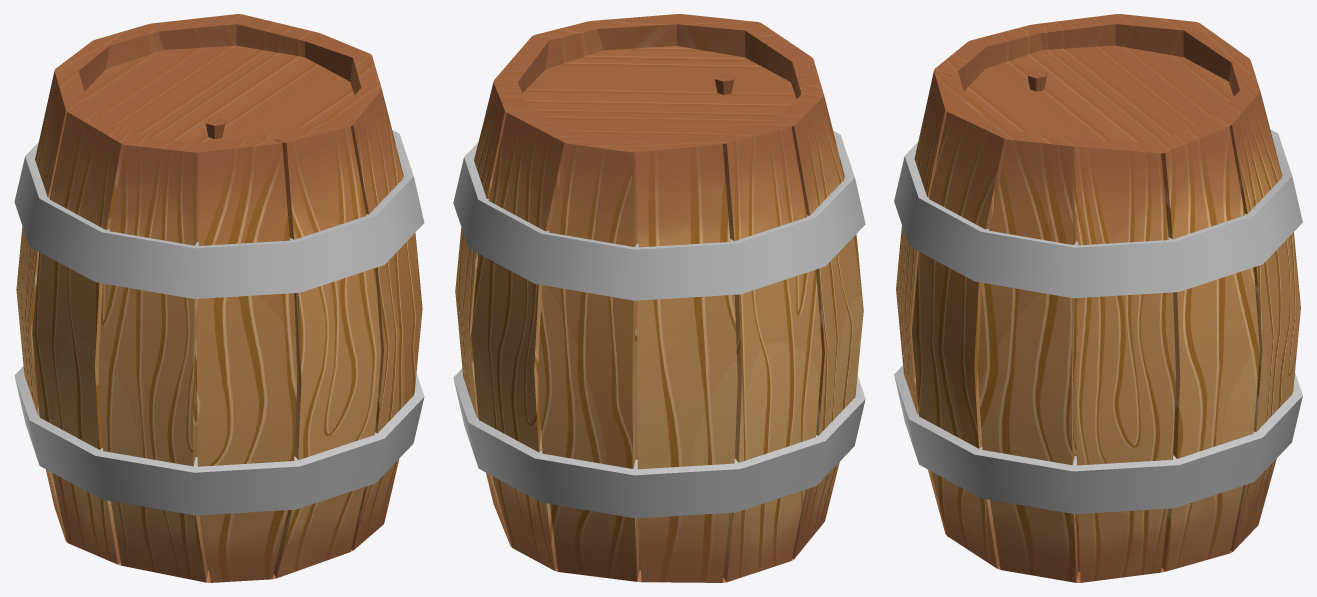
The model's file is Barrel1.fbx.
The picture shows the model from 3 angles, left to right: view 1: azimuth 30°, elevation 25°; view 2: azimuth 150°, elevation 25°; view 3: azimuth 270°, elevation 25°; orthographic projection.
Parts seen in each view (by area): view 1: Barrel.001; view 2: Barrel.001; view 3: Barrel.001.
Boxes of the visible parts, x1,y1,x2,y2 form: Barrel.001: [14, 14, 424, 582]; Barrel.001: [453, 14, 865, 582]; Barrel.001: [894, 14, 1302, 582].
Size of the model in its own units: 86.15 by 101 by 86.15.
